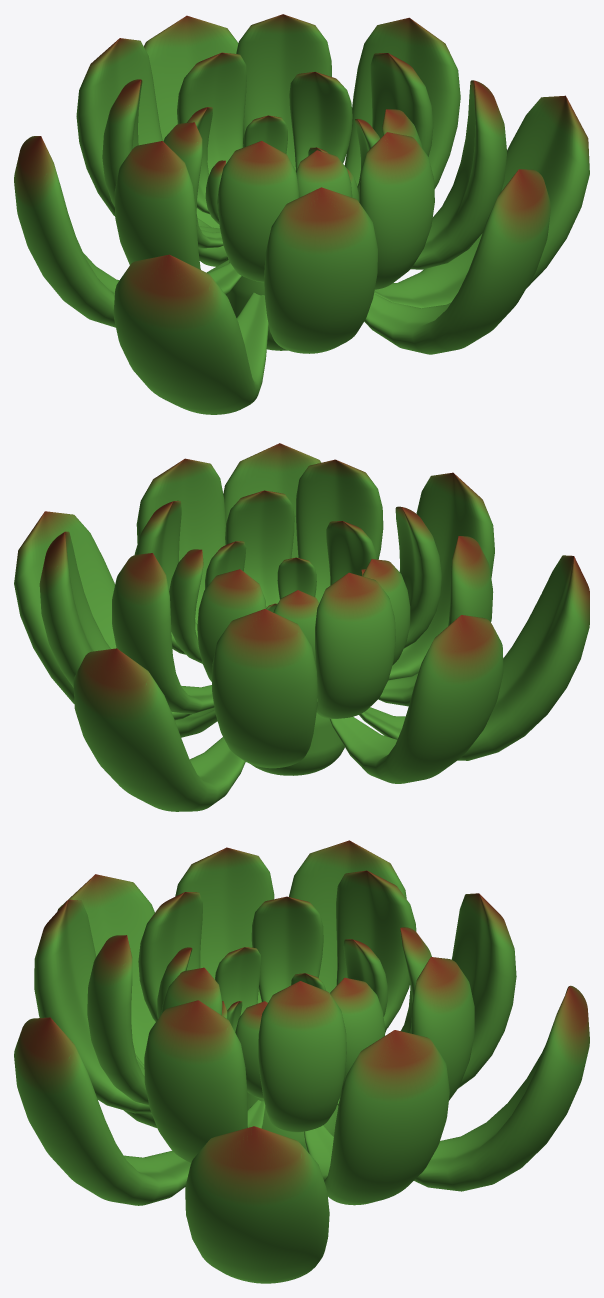
Rendered from Succulent2.fbx.
3 views of the same model, one above another, from view 1: azimuth 30°, elevation 25°; view 2: azimuth 150°, elevation 25°; view 3: azimuth 270°, elevation 25° (orthographic). The views are drawn at different scales.
Visible parts, largest first — view 1: Succulent.001; view 2: Succulent.001; view 3: Succulent.001.
Boxes of the visible parts, box(x1,y1,x2,y2) form: Succulent.001: box(14, 14, 589, 414); Succulent.001: box(14, 443, 589, 811); Succulent.001: box(14, 840, 589, 1283).
Bounding box in the file's own units: 207 × 102 × 193.
Materials: 1 (1 with a texture image).
